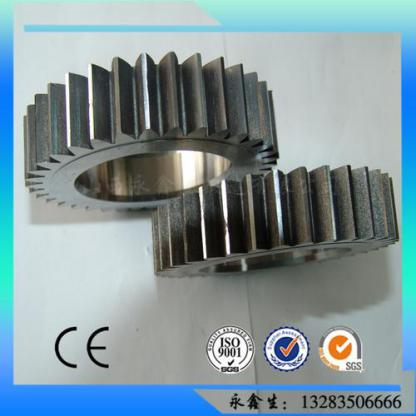FOD: (20, 50, 280, 219), (150, 161, 398, 281)
